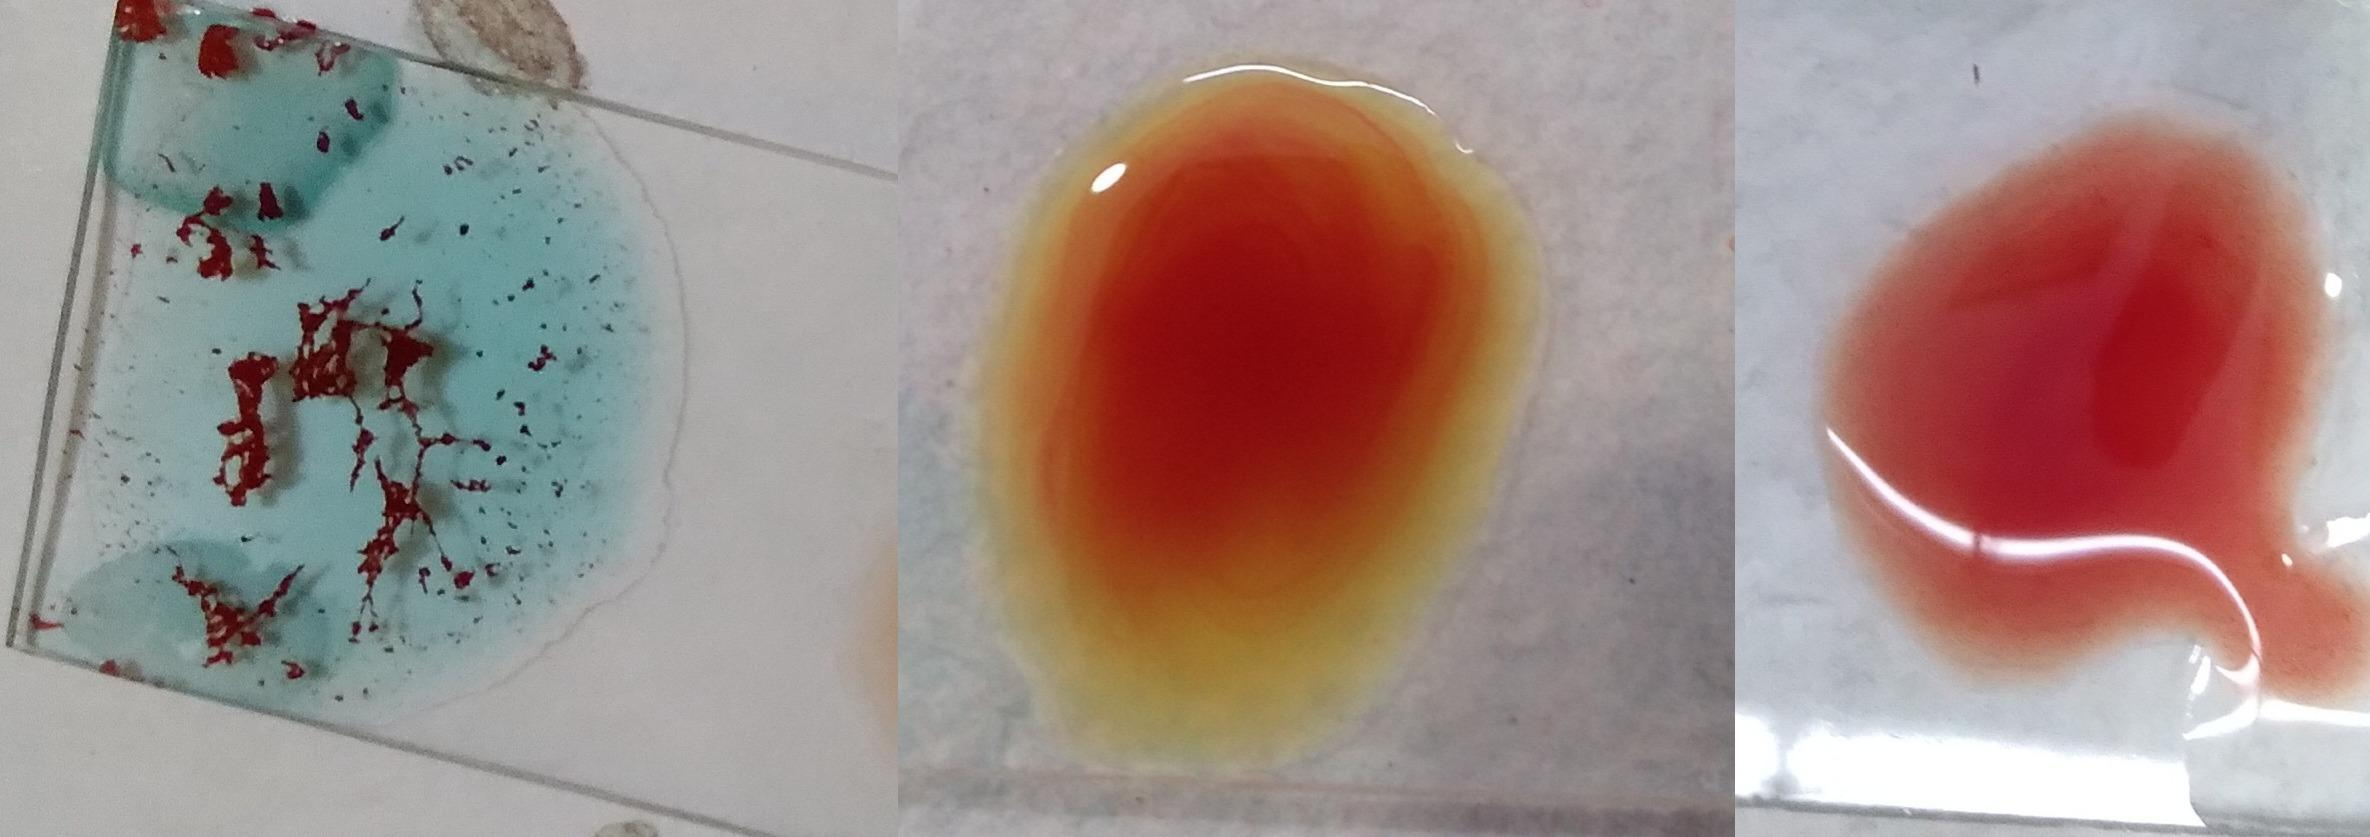A: (100, 115, 659, 668)
